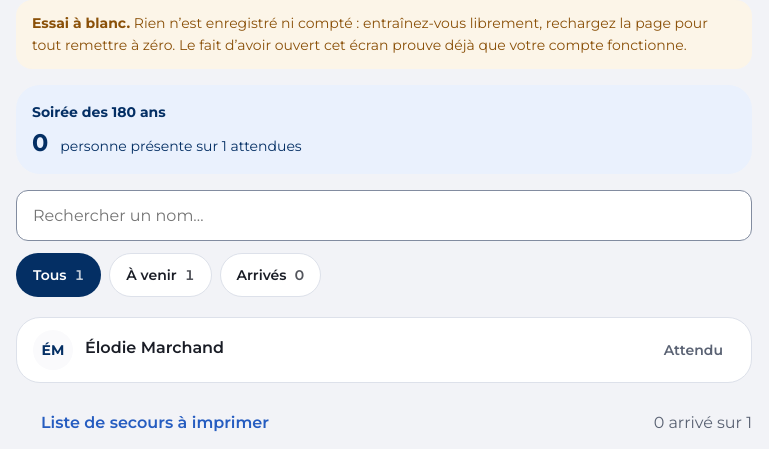
essai à blanc › se signale, et n’envoie rien
Expected: the text "Essai à blanc." is shown, [32,14,130,32]
What coordinates should you click on to do the following:
click the button "ÉM Élodie Marchand Attendu"
I would click on:
 (53, 350)
Its box is [17,318,751,382].
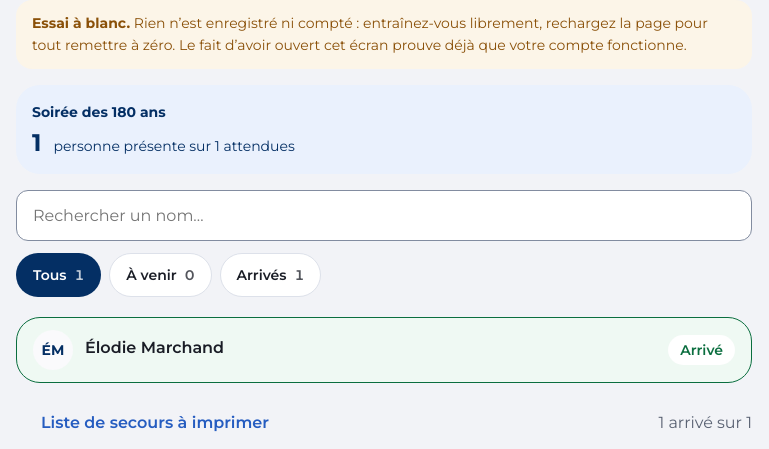
Expected: the text "Arrivé" is shown, [668,335,735,365]
